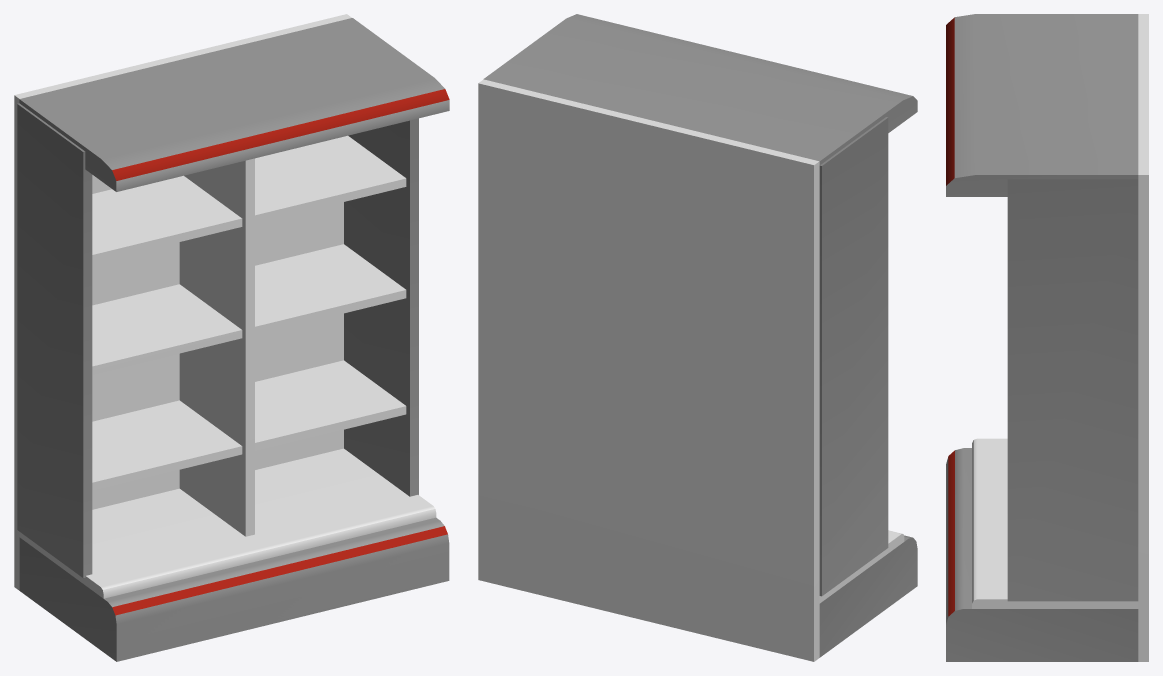
File: Dondurucu.fbx
3 views of the same model, side by side, from view 1: azimuth 30°, elevation 25°; view 2: azimuth 150°, elevation 25°; view 3: azimuth 270°, elevation 25° (orthographic).
Parts seen in each view (by area): view 1: Dondurucu; view 2: Dondurucu; view 3: Dondurucu.
Boxes of the visible parts, left/top/right/bottom form: Dondurucu: left=14, top=14, right=449, bottom=661; Dondurucu: left=478, top=14, right=917, bottom=661; Dondurucu: left=946, top=14, right=1148, bottom=661.
Size of the model in its own units: 172 by 241 by 90.92.
